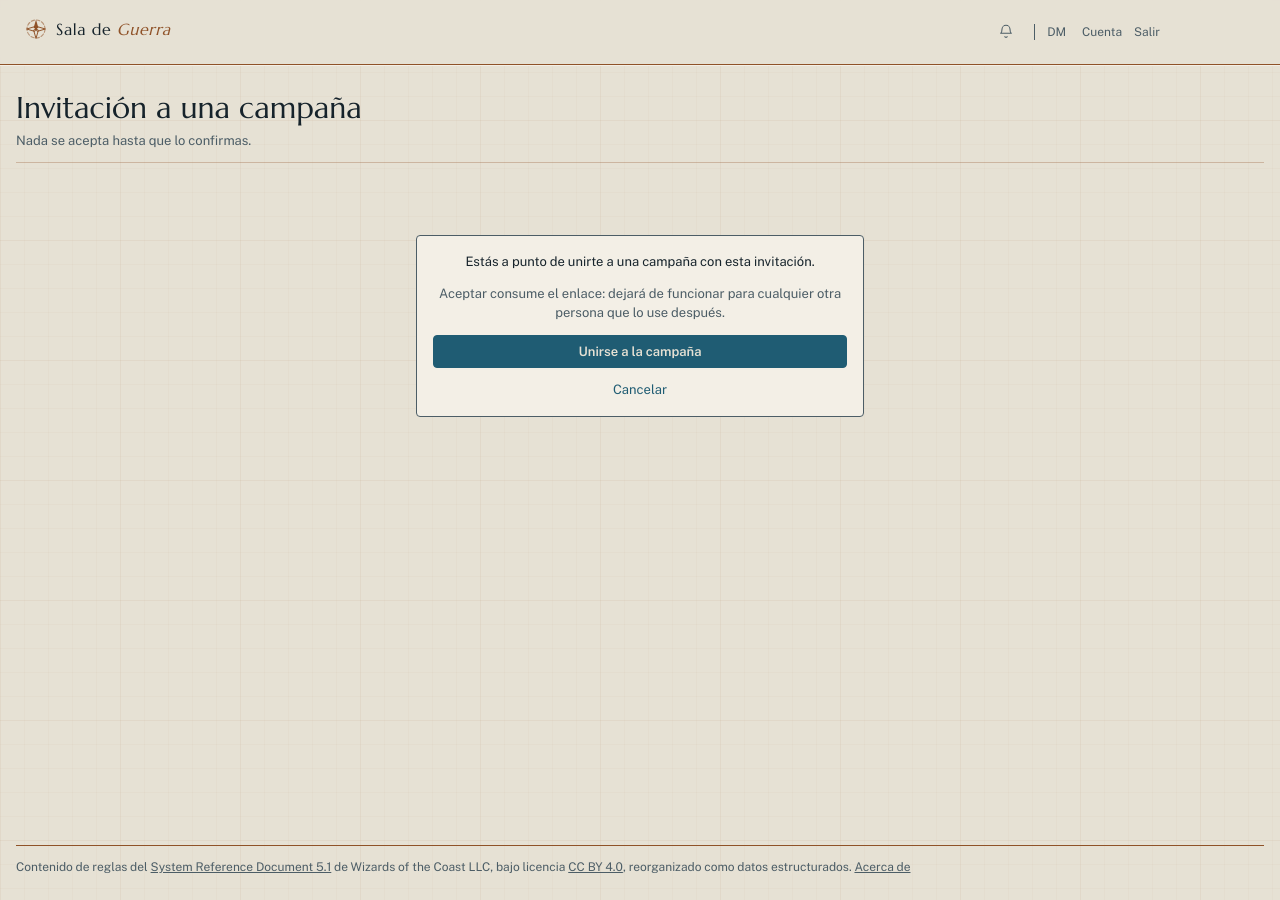
JoinPage › clears the pending invite once an accept attempt starts, whether it succeeds or fails
The width and height of the screenshot is (1280, 900).
Click the button "Unirse a la campaña". click: x=640, y=351
box: x1=433 y1=334 x2=847 y2=368
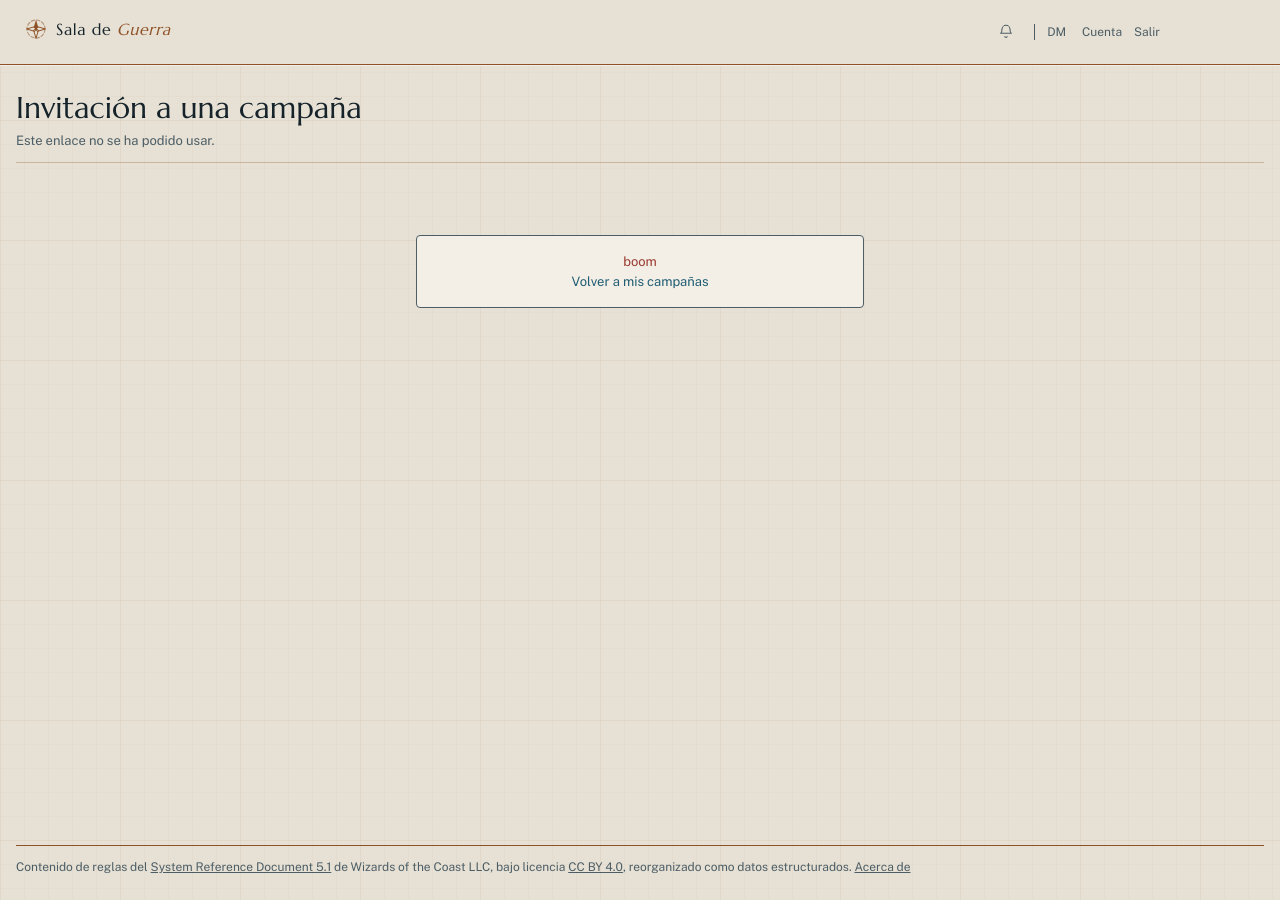
Expected: the text "boom" is shown, x1=623 y1=254 x2=657 y2=269
